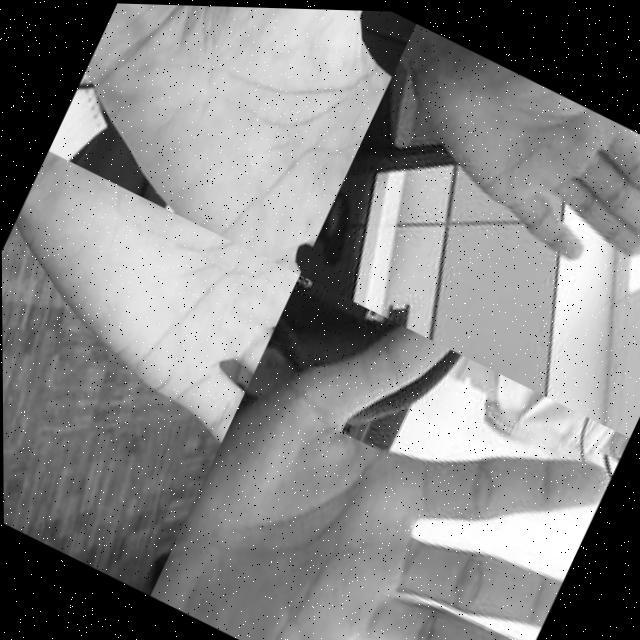no-gloves: (146, 269, 630, 640), (63, 2, 417, 276), (0, 149, 298, 455), (374, 31, 640, 301)
